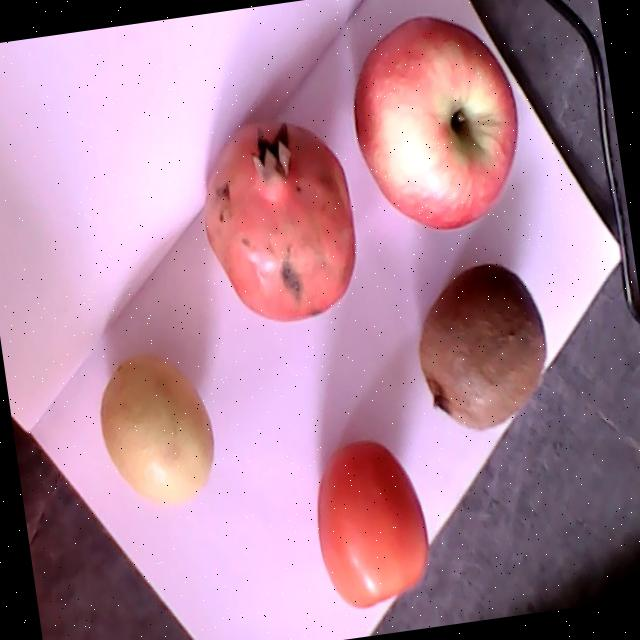apple: (353, 17, 516, 228)
kiwi: (419, 262, 545, 429)
lemon: (101, 355, 213, 502)
pomegranate: (205, 121, 355, 322)
tomato: (317, 440, 426, 609)
